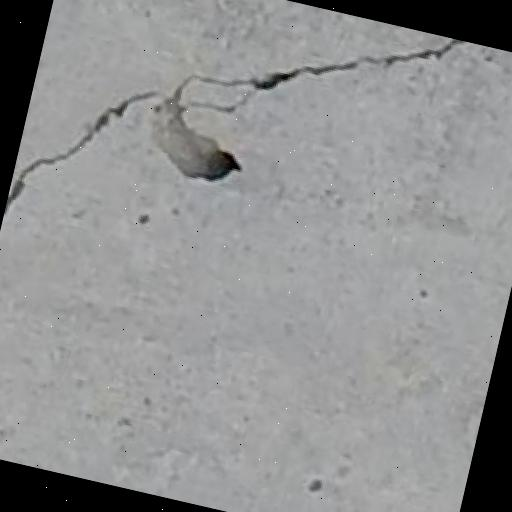spalling: (20, 38, 478, 211)
